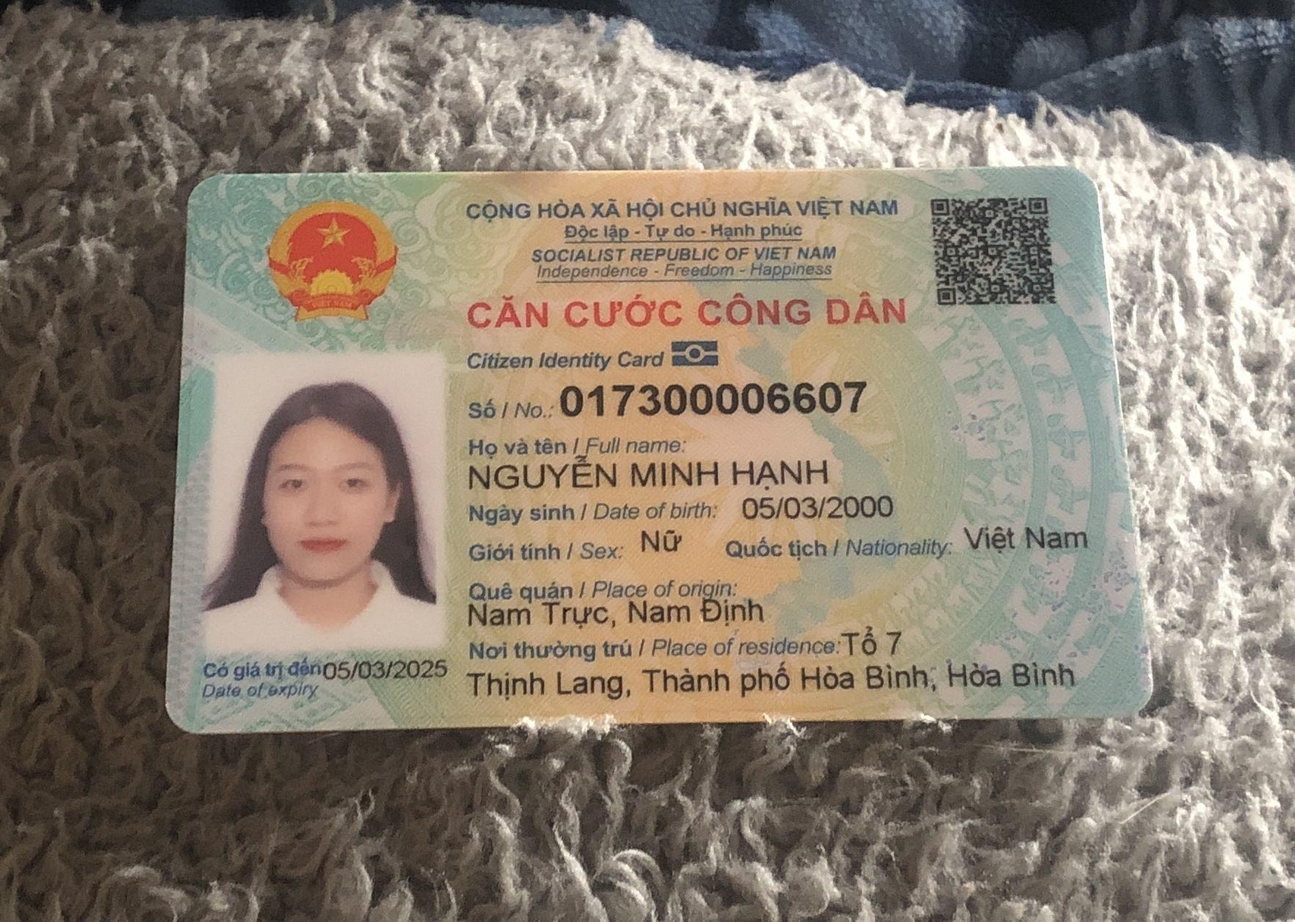ID: (553, 375, 879, 422)
birth: (720, 488, 896, 523)
name: (462, 456, 856, 498)
place: (457, 593, 782, 635)
residence: (453, 654, 1088, 705), (832, 626, 914, 660)
